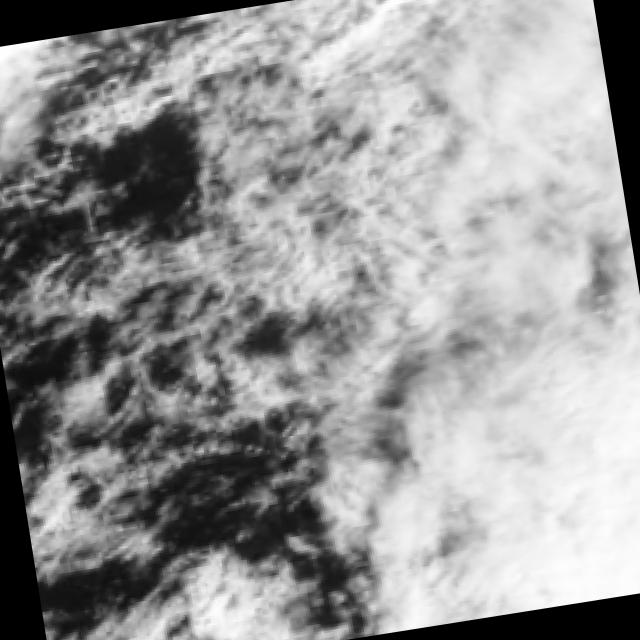CB: (412, 445, 605, 625), (502, 420, 640, 610)
